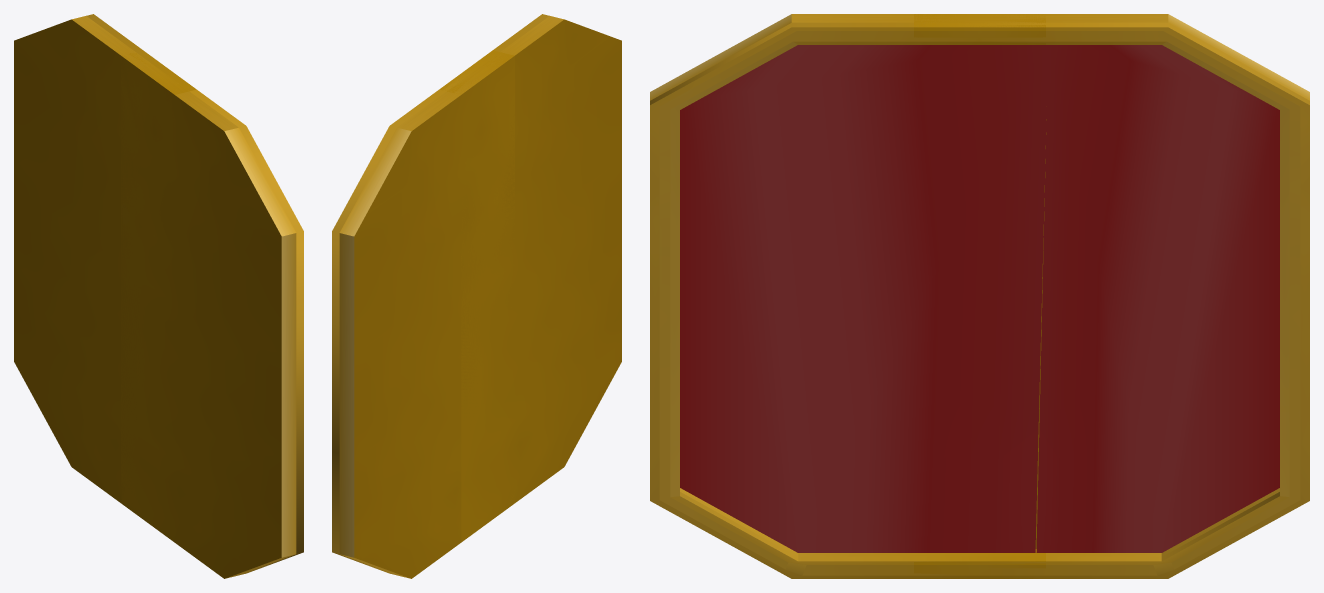
File: rank_flame.obj
The picture shows the model from 3 angles, left to right: view 1: azimuth 30°, elevation 25°; view 2: azimuth 150°, elevation 25°; view 3: azimuth 270°, elevation 25°; orthographic projection. The views are drawn at different scales.
Visible parts, largest first — view 1: Cube.003; view 2: Cube.003; view 3: Cube.003.
Part boxes in pixels (<box>): Cube.003: <box>14,14,303,578</box>; Cube.003: <box>332,14,621,578</box>; Cube.003: <box>650,14,1309,578</box>.
Size of the model in its own units: 0.1254 by 2.38 by 2.58.
1 material, 1 textured.
